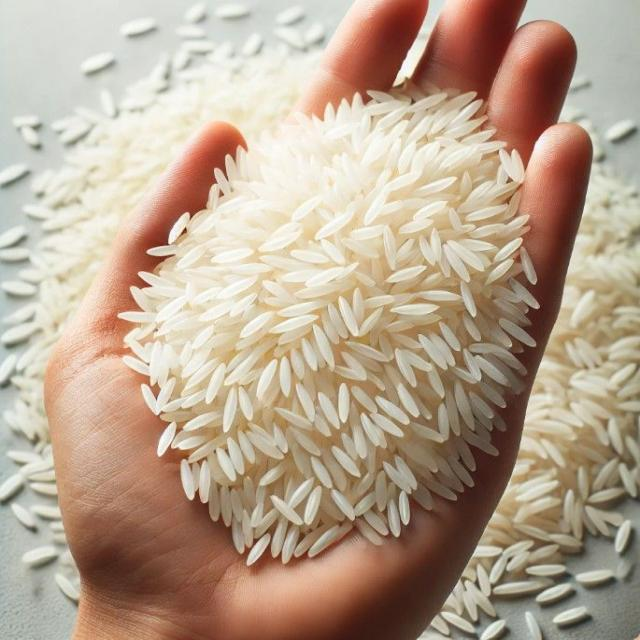rice: (119, 86, 537, 554), (2, 50, 312, 459), (274, 26, 306, 50), (120, 18, 157, 38), (553, 606, 590, 626), (81, 52, 114, 74), (22, 546, 58, 566), (605, 119, 637, 141), (0, 473, 24, 502), (0, 163, 30, 186), (11, 503, 36, 530), (55, 574, 79, 601), (576, 570, 613, 587), (0, 226, 28, 248), (275, 5, 305, 25), (614, 520, 631, 555), (214, 3, 250, 19), (0, 354, 17, 386), (241, 32, 263, 56), (481, 619, 506, 639), (11, 114, 42, 130), (185, 2, 207, 23), (525, 612, 542, 639), (20, 127, 41, 147), (176, 25, 206, 38), (570, 75, 591, 91)
